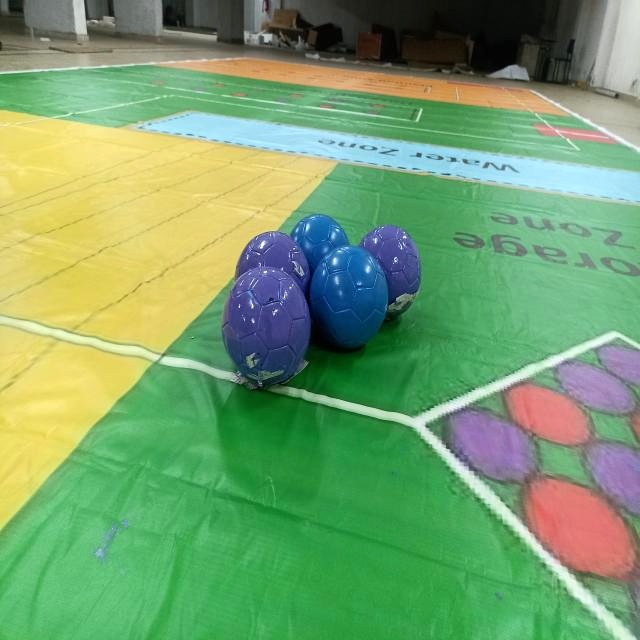blue_ball: (305, 241, 392, 355), (288, 211, 358, 282)
purple_ball: (217, 266, 317, 393), (355, 221, 423, 326), (230, 227, 314, 298)
